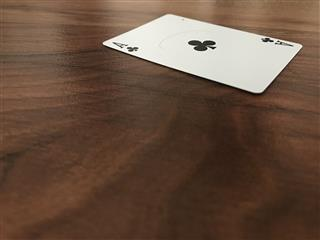AceOfClubs: (102, 13, 303, 93)
